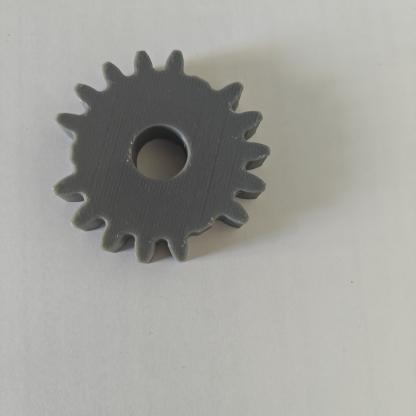defect: (157, 34, 254, 116), (43, 109, 114, 216), (160, 193, 254, 264)
gear: (36, 35, 303, 288)
